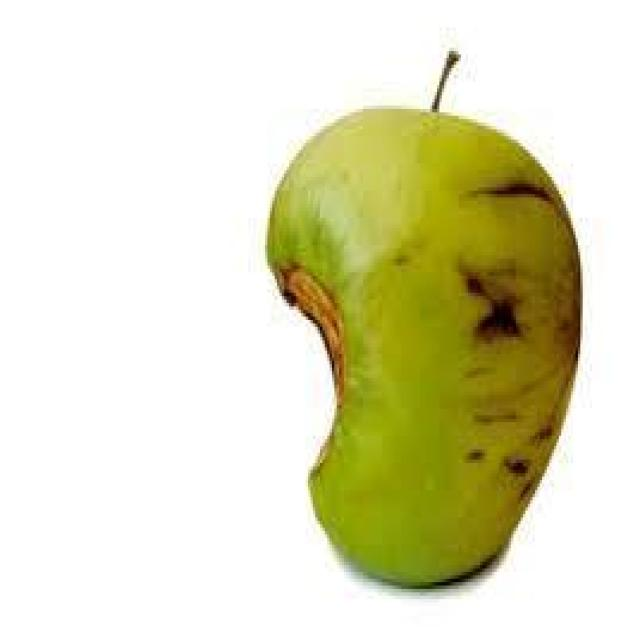maca: (262, 48, 582, 589)
